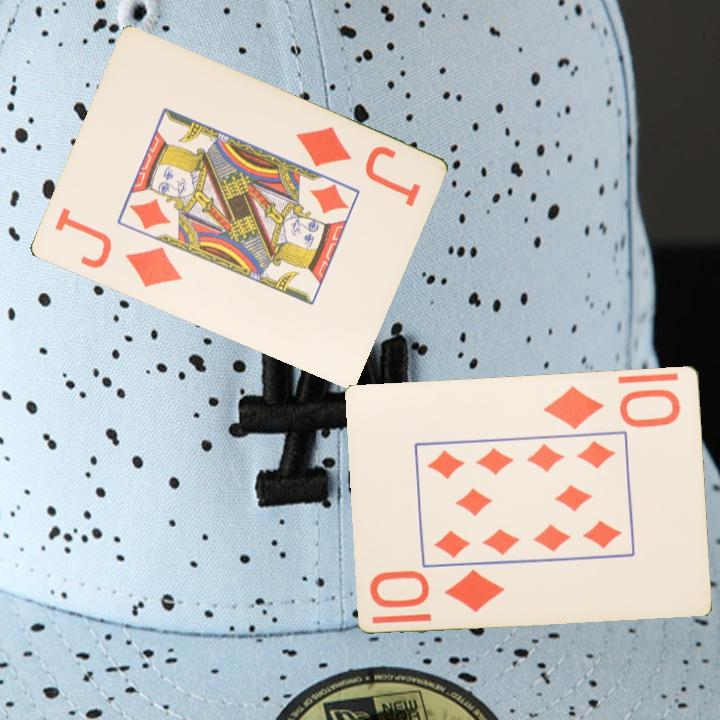10d: (540, 381, 684, 432), (366, 566, 508, 615)
Jd: (291, 122, 423, 211), (50, 204, 185, 291)
